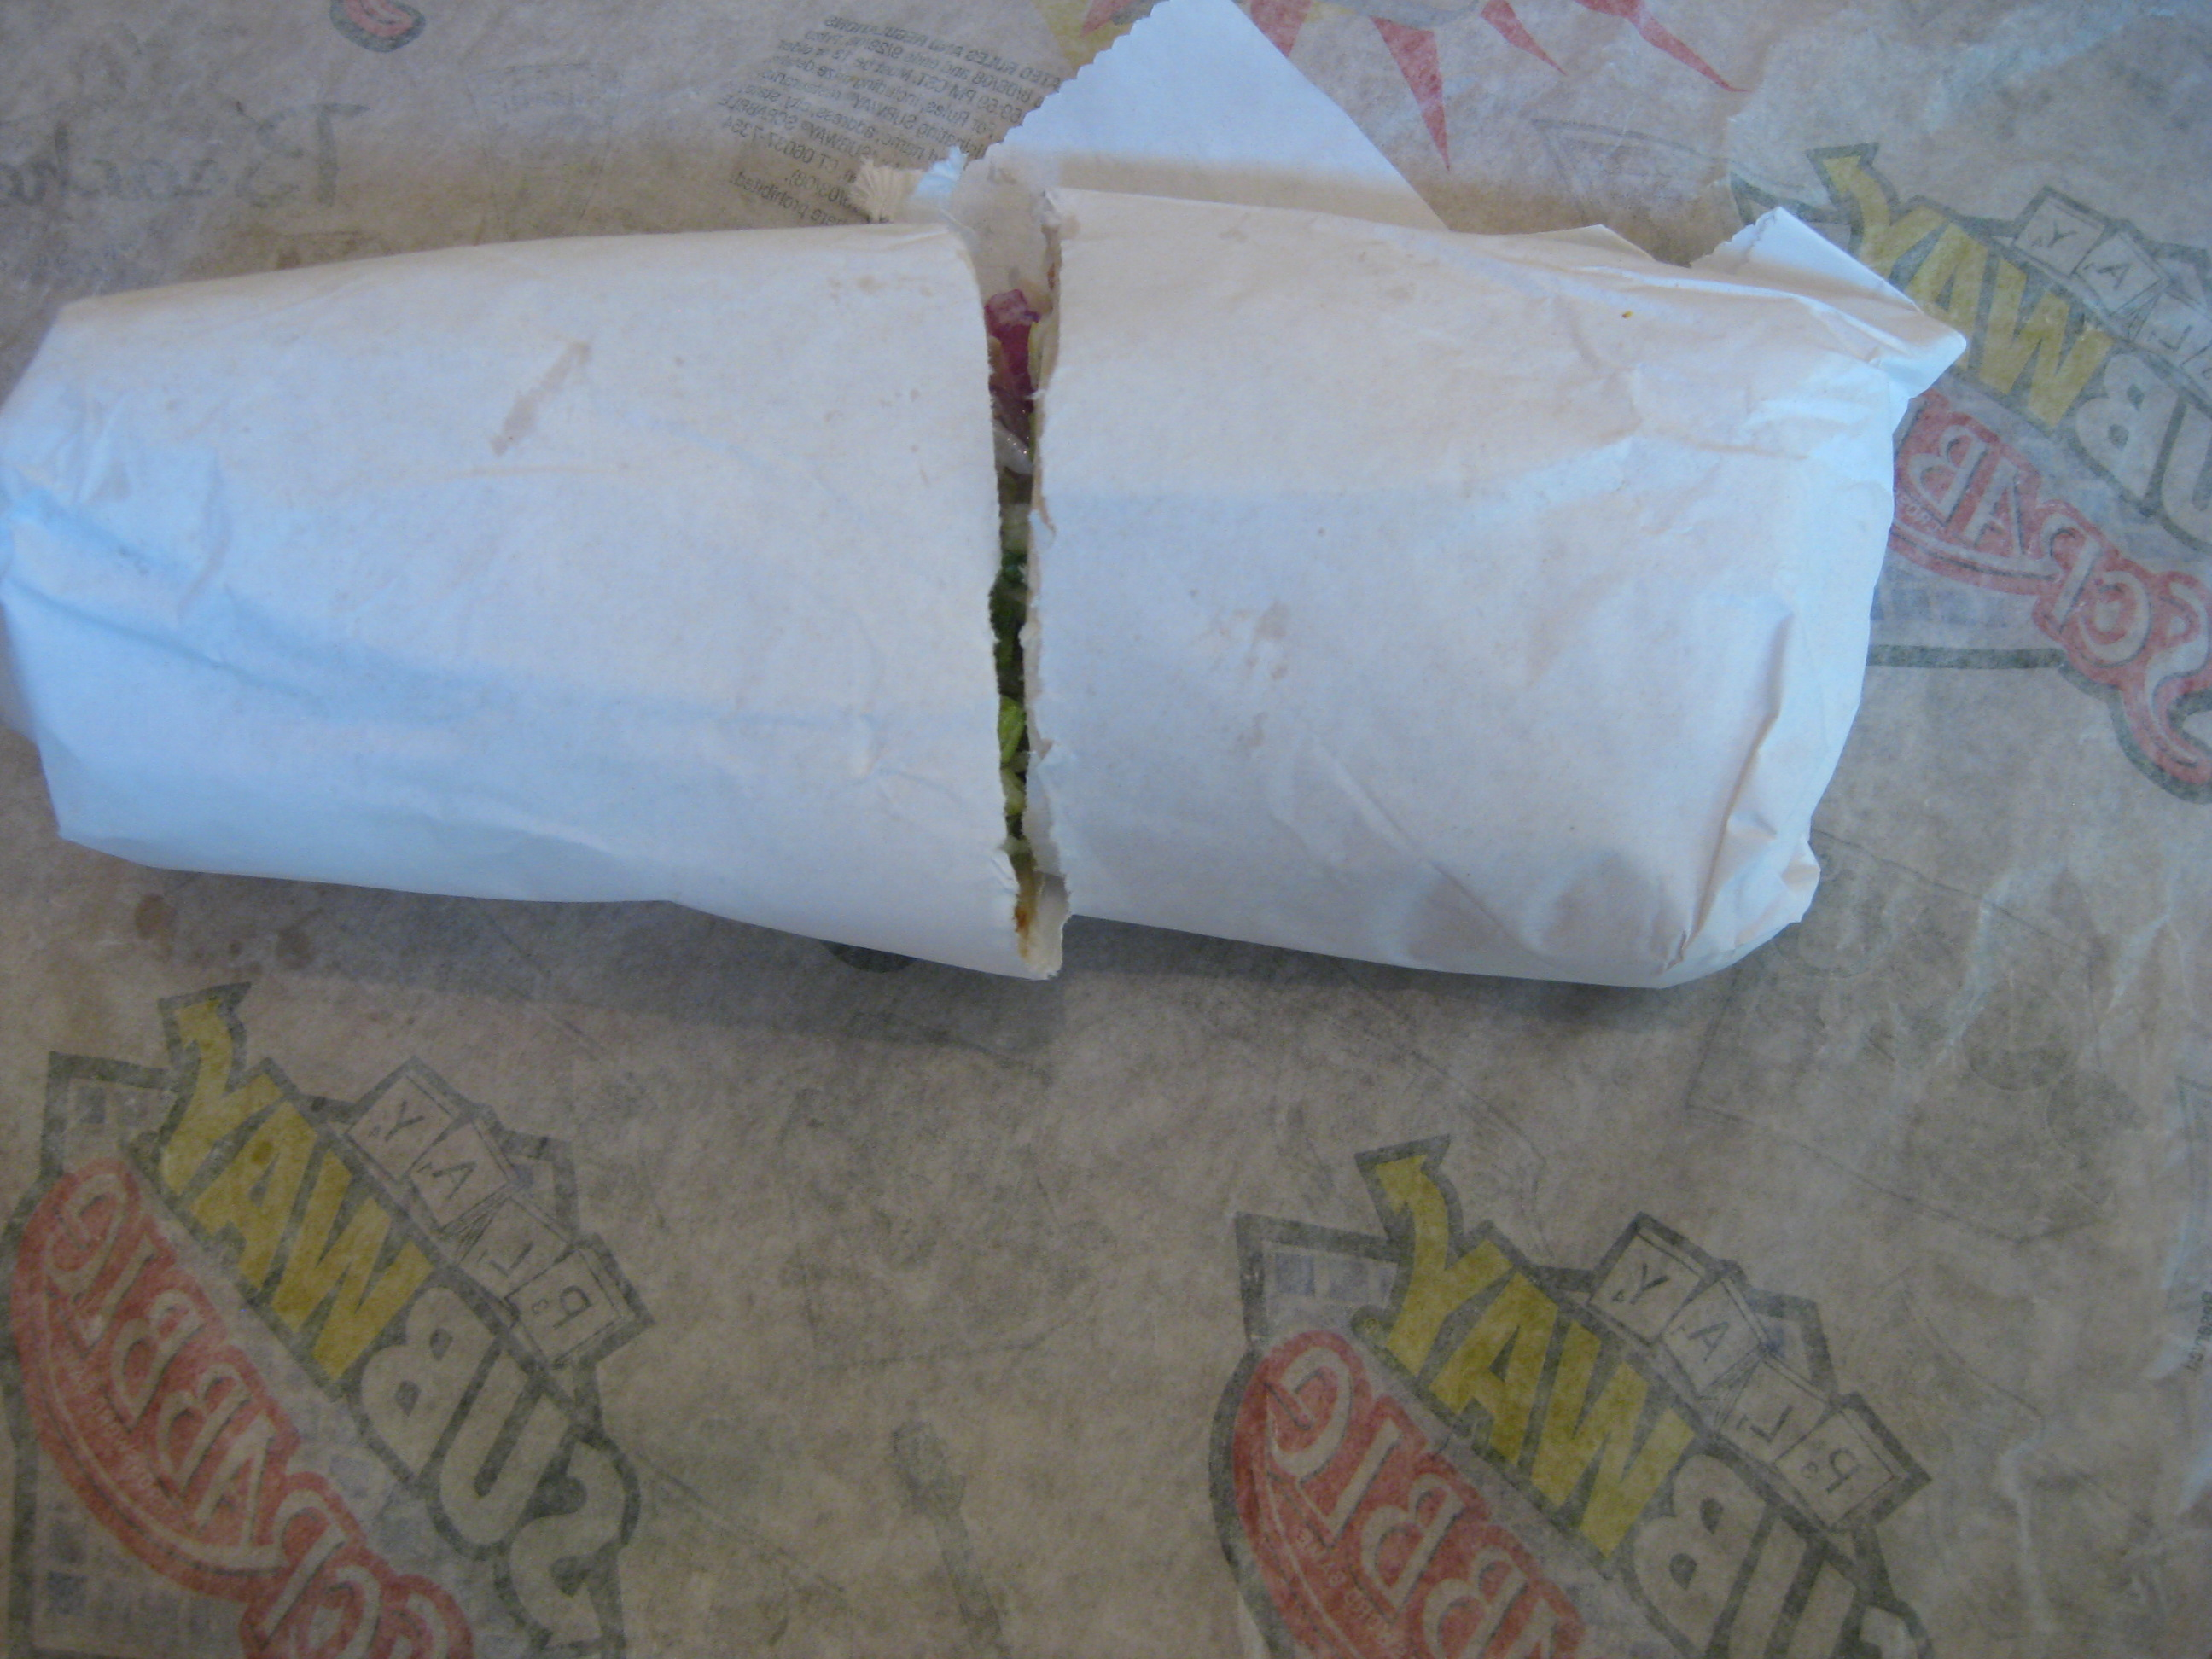burrito: (20, 195, 1949, 1002)
